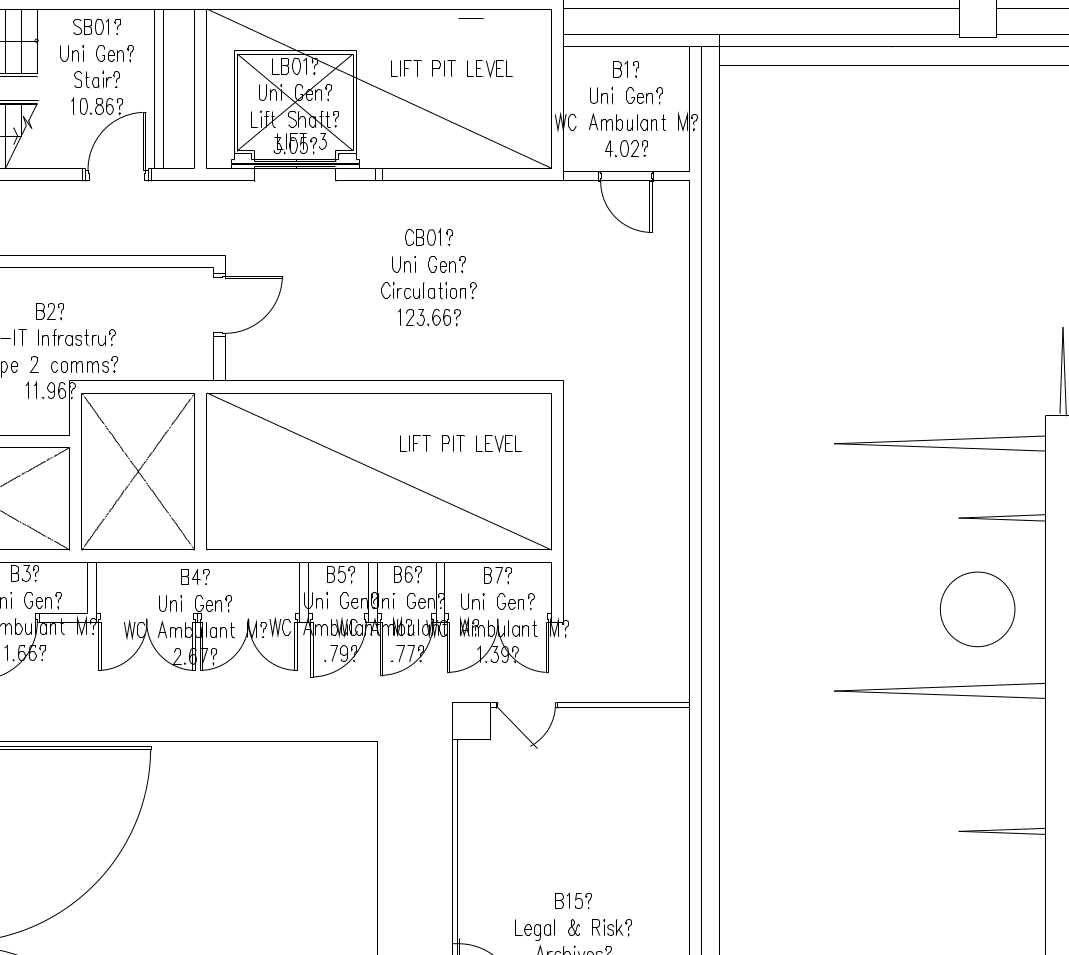door: (445, 617, 554, 688), (96, 615, 197, 684), (198, 615, 299, 684), (588, 180, 662, 250), (75, 102, 149, 172), (222, 271, 296, 341), (306, 615, 371, 686), (374, 619, 439, 690), (491, 705, 563, 752)
